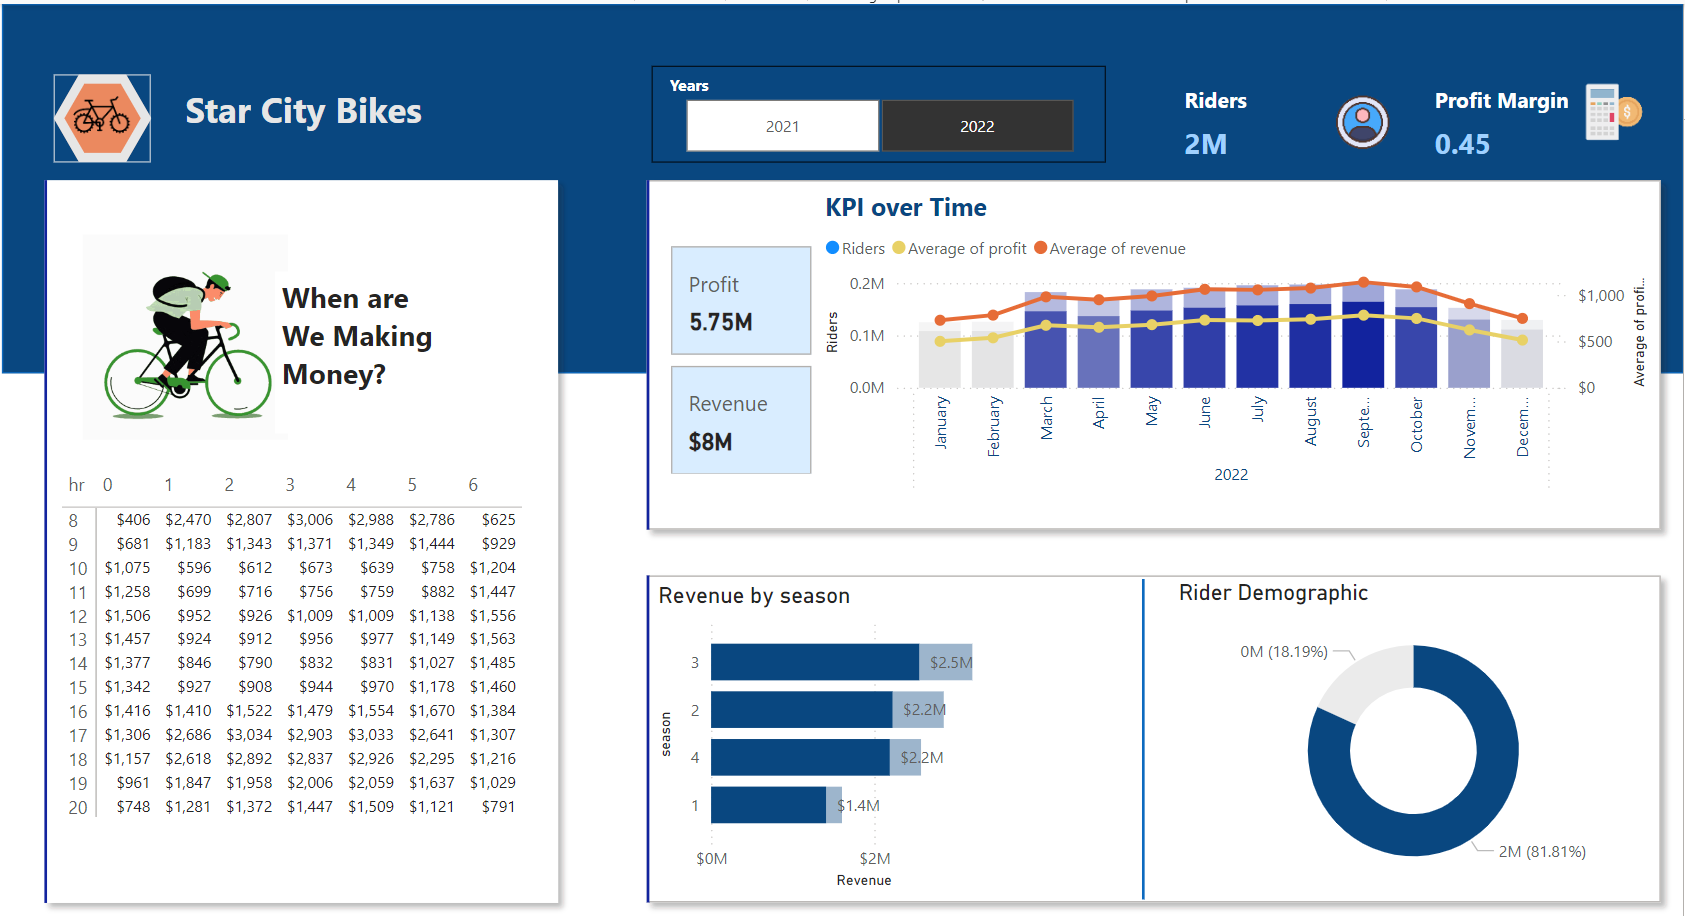

The page's visual inventory and layout, read from the dashboard file:
{"tool":"powerbi","page":{"name":"Page 1","canvas":[1280,720],"ordinal":0},"visuals":[{"type":"shape","box":[9.8,0,1270.5,279.1],"z":0},{"type":"cardVisual","fields":{"Data":["Min(Query1.riders)"]},"box":[25,116.2,422.4,580.9],"z":1000},{"type":"cardVisual","fields":{"Data":["Min(Query1.riders)"]},"box":[479.9,116.4,800.2,298.7],"z":2000},{"type":"cardVisual","fields":{"Data":["Min(Query1.riders)"]},"box":[479.9,415.1,800.2,281.9],"z":3000},{"type":"cardVisual","fields":{"Data":["Min(Query1.riders)"]},"box":[49.9,147.7,202,212.8],"z":4000},{"type":"pivotTable","fields":{"Values":["Avg(Query1.revenue)"],"Columns":["Query1.weekday"],"Rows":["Query1.hr"]},"box":[49.9,348.6,374.6,304],"z":5000},{"type":"textbox","box":[216.1,202,200.9,122.7],"z":6000},{"type":"lineClusteredColumnComboChart","title":"KPI over Time","fields":{"Category":["Query1.dteday.Variation.Date Hierarchy.Year","Query1.dteday.Variation.Date Hierarchy.Month"],"Y":["Sum(Query1.riders)"],"Y2":["Avg(Query1.profit)","Avg(Query1.revenue)"]},"box":[626.5,140.1,632,249.7],"z":7000},{"type":"clusteredBarChart","fields":{"Category":["Query1.season"],"Y":["Sum(Query1.revenue)"]},"box":[500.6,436.5,293.2,236.7],"z":8000},{"type":"donutChart","title":"Rider Demographic","fields":{"Category":["Query1.rider_type"],"Y":["Sum(Query1.riders)"]},"box":[893.7,434.3,364.9,240],"z":9000},{"type":"shape","box":[722.1,434.3,299.7,242.1],"z":10000},{"type":"cardVisual","title":"KPI over Time","fields":{"Data":["Sum(Query1.profit)","Sum(Query1.revenue)"]},"box":[510.4,178.1,116.2,182.4],"z":11000},{"type":"cardVisual","fields":{"Data":["Sum(Query1.riders)","Query1.Profit Margin"]},"box":[886.1,43.4,381.1,76],"z":12000},{"type":"shape","box":[48.9,53.2,73.8,66.2],"z":13000},{"type":"image","box":[58.6,51,53.2,65.2],"z":14000},{"type":"textbox","box":[143.3,56.5,217.2,63],"z":15000},{"type":"slicer","fields":{"Values":["Query1.Years"]},"box":[500.6,46.7,343.1,72.8],"z":16000}]}

Visuals, with their boxes on the page's 1280x720 design canvas (x1, y1, x2, y2). These are canvas units, not pixel positions in the 1685x916 screenshot, which may show the page scaled, cropped or inside an application window:
shape: left=10, top=0, right=1280, bottom=279
cardVisual - Min(Query1.riders): left=25, top=116, right=447, bottom=697
cardVisual - Min(Query1.riders): left=480, top=116, right=1280, bottom=415
cardVisual - Min(Query1.riders): left=480, top=415, right=1280, bottom=697
cardVisual - Min(Query1.riders): left=50, top=148, right=252, bottom=360
pivotTable - Avg(Query1.revenue) x Query1.weekday: left=50, top=349, right=424, bottom=653
textbox: left=216, top=202, right=417, bottom=325
"KPI over Time" lineClusteredColumnComboChart: left=626, top=140, right=1258, bottom=390
clusteredBarChart - Query1.season x Sum(Query1.revenue): left=501, top=436, right=794, bottom=673
"Rider Demographic" donutChart: left=894, top=434, right=1259, bottom=674
shape: left=722, top=434, right=1022, bottom=676
"KPI over Time" cardVisual: left=510, top=178, right=627, bottom=360
cardVisual - Sum(Query1.riders) x Query1.Profit Margin: left=886, top=43, right=1267, bottom=119
shape: left=49, top=53, right=123, bottom=119
image: left=59, top=51, right=112, bottom=116
textbox: left=143, top=56, right=360, bottom=120
slicer - Query1.Years: left=501, top=47, right=844, bottom=120
